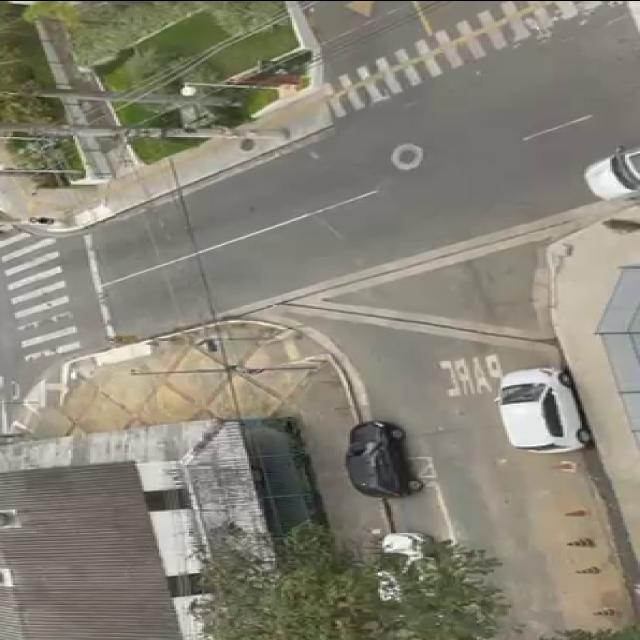car: (493, 364, 601, 458), (365, 526, 453, 640), (338, 412, 422, 504), (575, 138, 640, 208)
